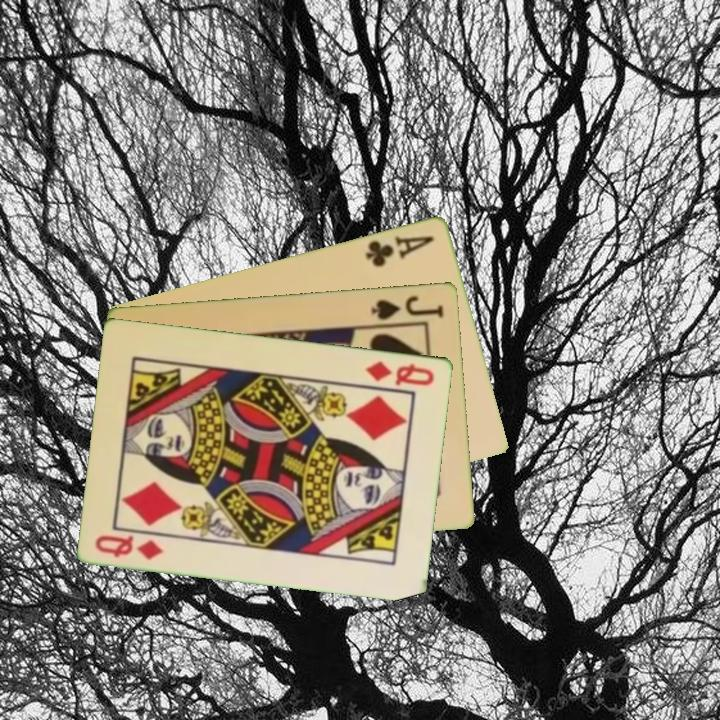Ac: (362, 231, 438, 270)
Js: (368, 291, 447, 323)
Qd: (92, 531, 166, 563), (363, 357, 438, 388)
